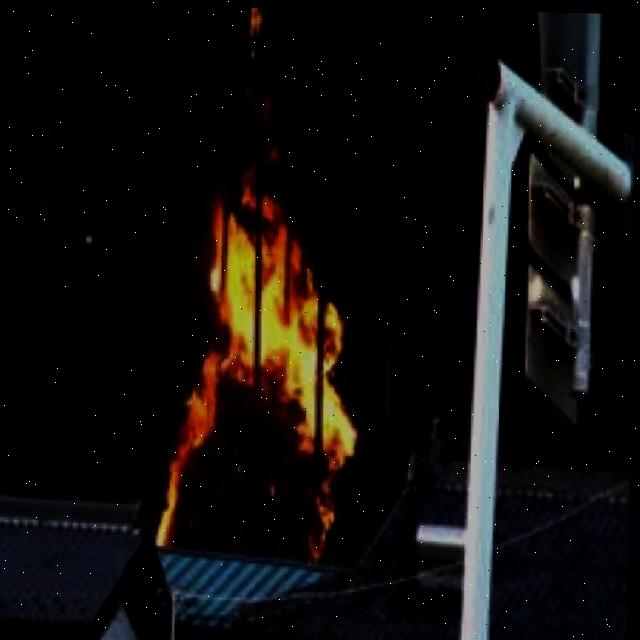Fire: (154, 78, 355, 555)
